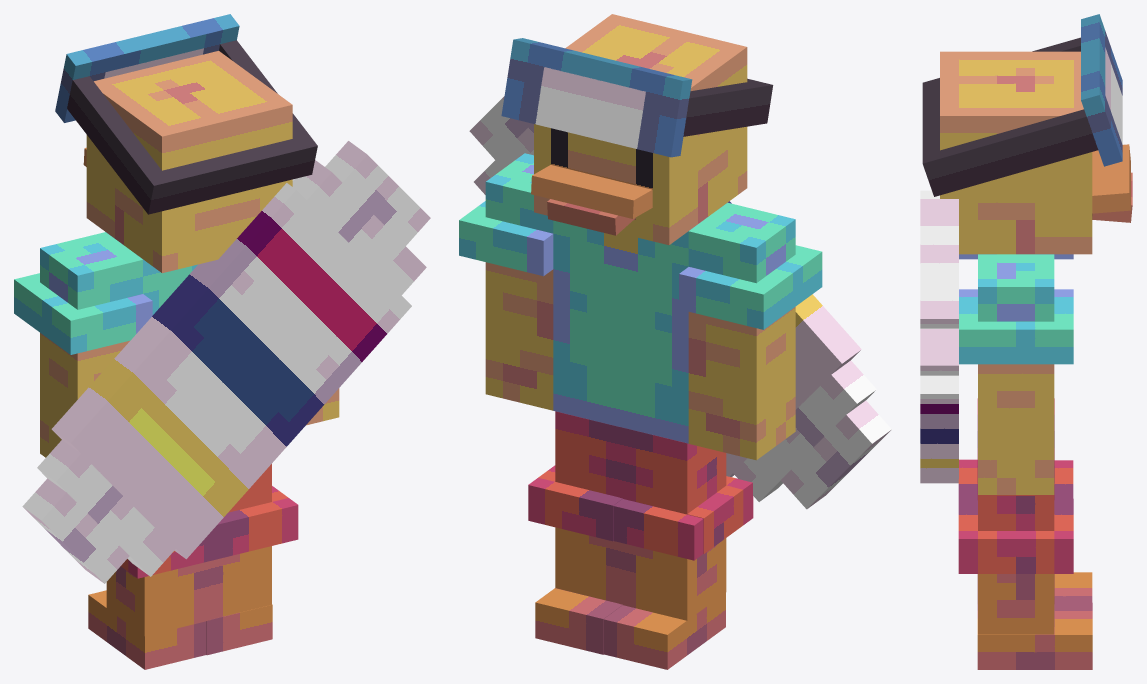
File: Surfer Duck C60.gltf
3 renders of one model, left to right at view 1: azimuth 30°, elevation 25°; view 2: azimuth 150°, elevation 25°; view 3: azimuth 270°, elevation 25°, orthographic. The views are drawn at different scales.
Parts seen in each view (by area): view 1: surfboard (×5), head, goggles (×7), leftArm, leftLeg, leftSleeve (×2), rightLeg, leftFoot, rightPants, rightFoot, body, leftPants; view 2: body, head, leftArm, goggles (×5), surfboard (×5), leftLeg, rightArm, rightLeg, leftSleeve (×2), leftPants (×2), beak (×2), leftFoot (+3 smaller); view 3: head, rightArm, goggles (×7), surfboard (×3), rightLeg, rightSleeve (×3), rightPants (×3), rightFoot, beak (×2), leftPants (×2), leftFoot.
Boxes of the visible parts, x1,y1,x2,y2 form: surfboard (×5): (22,141,430,583); head: (86,51,292,273); goggles (×7): (55,14,317,214); leftArm: (40,232,142,457); leftLeg: (106,561,210,635); leftSleeve (×2): (23,282,152,354); rightLeg: (210,464,271,619); leftFoot: (88,590,206,669); rightPants: (218,498,298,558); rightFoot: (206,604,272,655); body: (105,232,197,314); leftPants: (128,524,219,578); body: (553,203,726,443); head: (534,14,747,245); leftArm: (688,203,795,460); goggles (×5): (501,38,773,157); surfboard (×5): (469,96,891,509); leftLeg: (619,427,726,620); rightArm: (485,153,553,410); rightLeg: (555,411,619,603); leftSleeve (×2): (679,254,812,329); leftPants (×2): (613,485,743,560); beak (×2): (531,165,652,235); leftFoot: (603,592,725,669); head: (940,51,1092,254); rightArm: (978,254,1054,494); goggles (×7): (922,14,1122,196); surfboard (×3): (920,190,958,483); rightLeg: (978,495,1054,634); rightSleeve (×3): (959,289,1073,364); rightPants (×3): (958,498,1073,573); rightFoot: (977,602,1092,669); beak (×2): (1092,144,1132,222); leftPants (×2): (958,459,1073,500); leftFoot: (1054,572,1092,602).
Bounding box in the file's own units: 1.49 × 2.11 × 0.694.
1 material, 1 textured.
